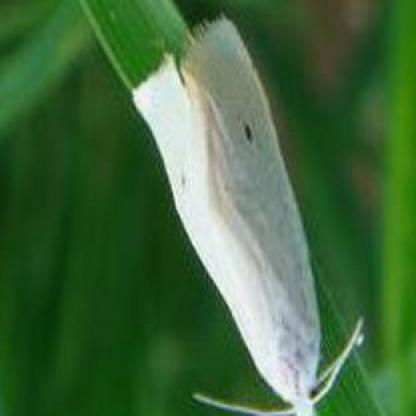stem-borer: (130, 8, 370, 416)
